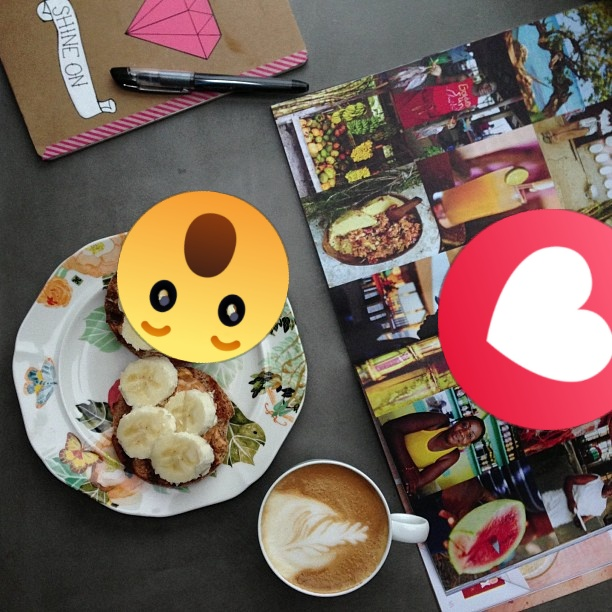love: (438, 209, 612, 430)
wow: (117, 191, 289, 363)
